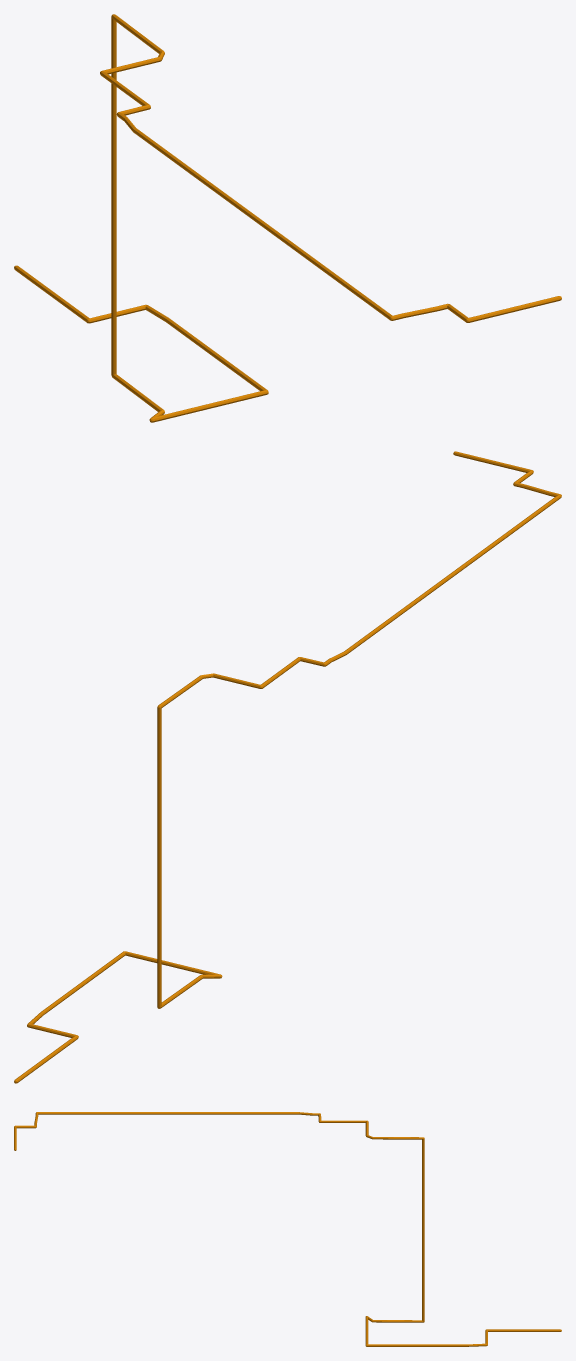
3 renders of one model, top to bottom at view 1: azimuth 30°, elevation 25°; view 2: azimuth 150°, elevation 25°; view 3: azimuth 270°, elevation 25°, orthographic. The views are drawn at different scales.
Bounding box in the file's own units: 885 × 1520 × 4070.
